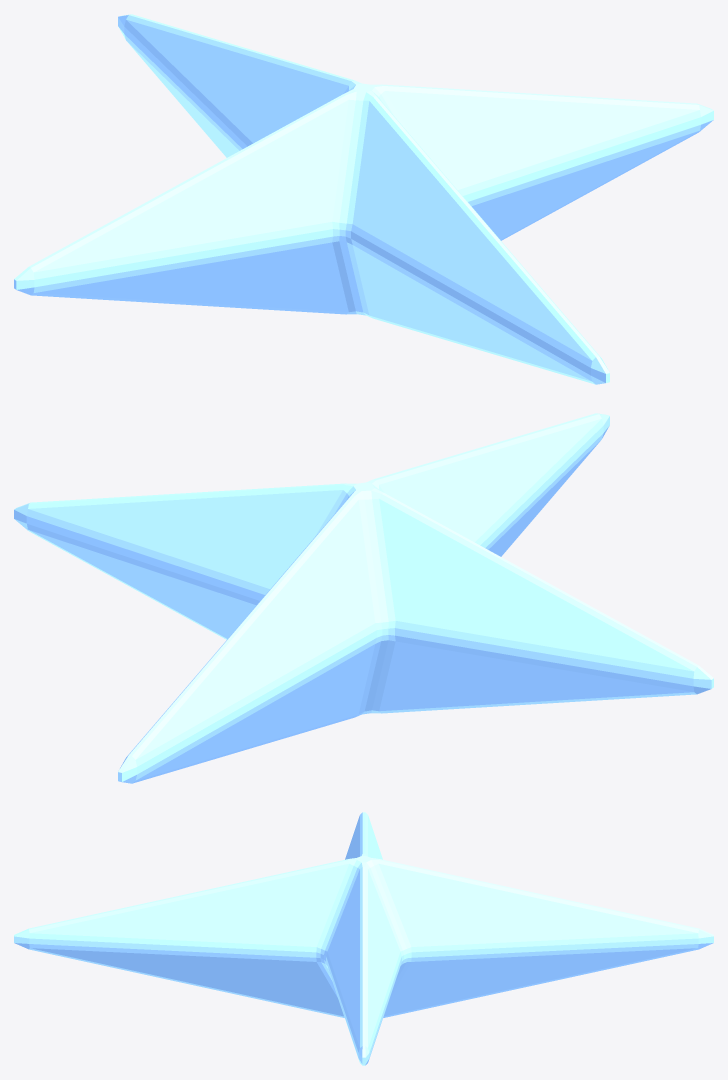
Rendered from orin-star.glb.
3 views of the same model, one above another, from view 1: azimuth 30°, elevation 25°; view 2: azimuth 150°, elevation 25°; view 3: azimuth 270°, elevation 25° (orthographic). The views are drawn at different scales.
Visible parts, largest first — view 1: Orin Star; view 2: Orin Star; view 3: Orin Star.
Boxes of the visible parts, x1=… form: Orin Star: x1=14, y1=14, x2=713, y2=384; Orin Star: x1=14, y1=413, x2=713, y2=783; Orin Star: x1=14, y1=812, x2=713, y2=1065.
Size of the model in its own units: 2.86 by 0.8763 by 3.47.
